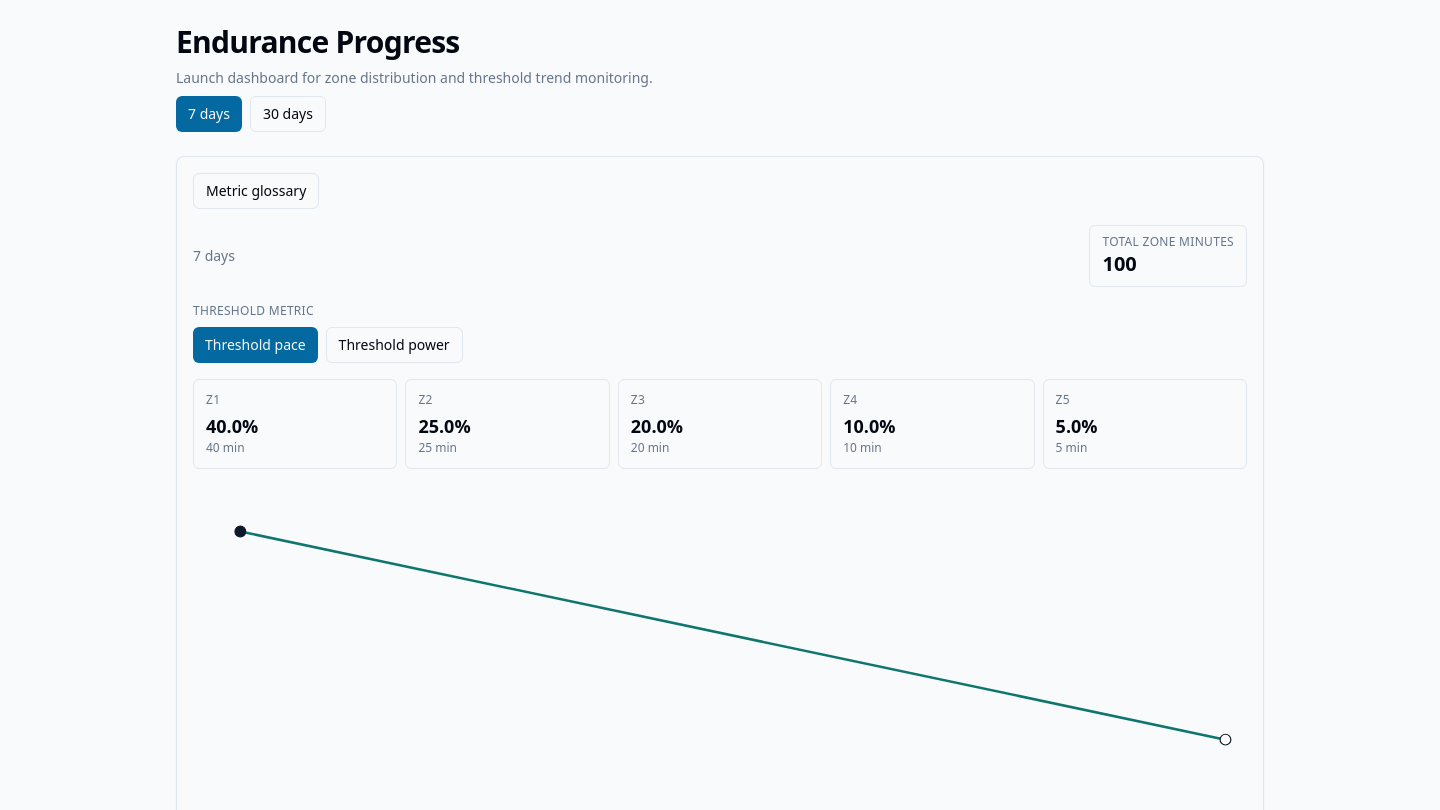
it: EnduranceProgressDashboard › provides contextual metric glossary access
This screenshot has width=1440, height=810.
Click the button "Metric glossary" at (256, 191), box [193,173,319,209]
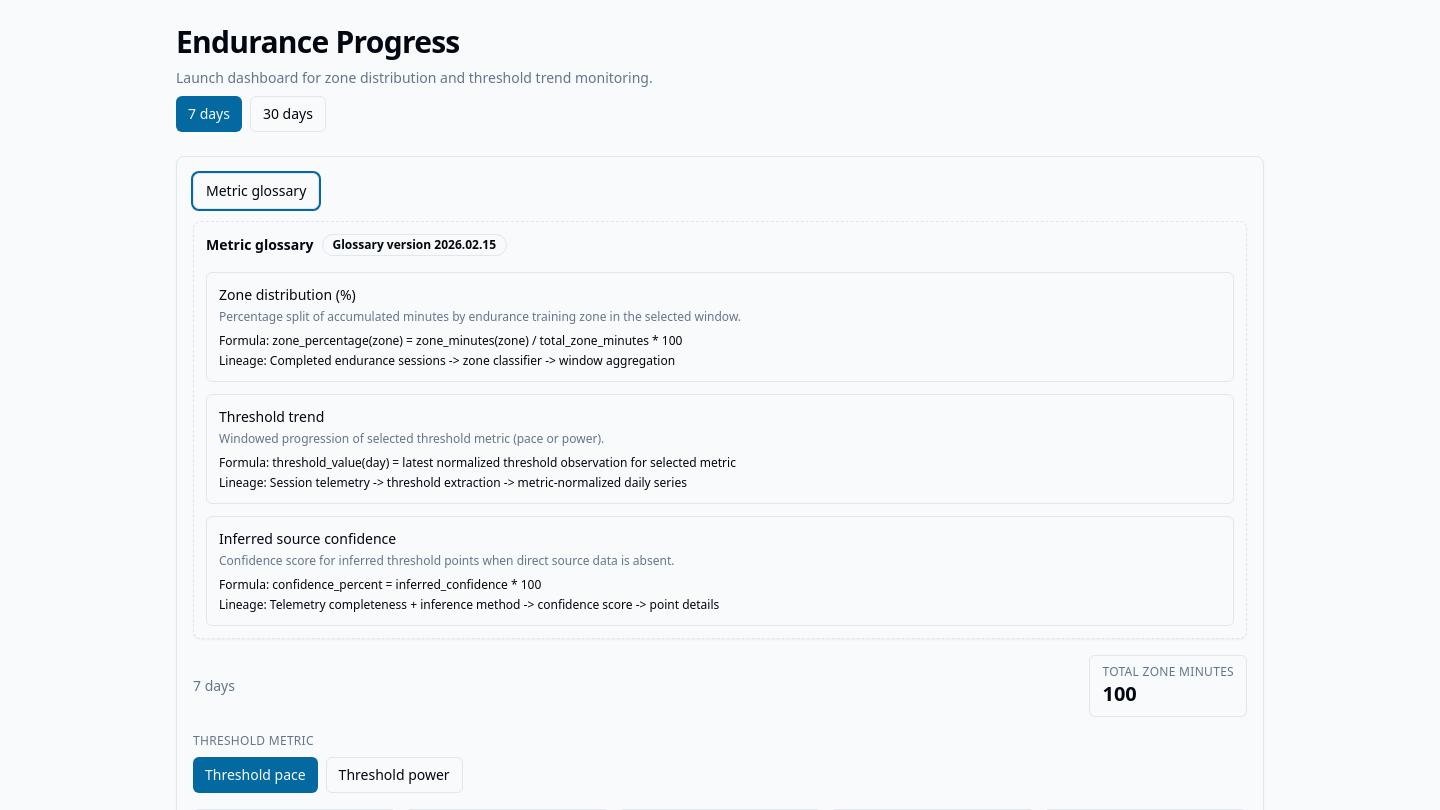
Expected: the text "Glossary version 2026.02.15" is shown, [322,234,507,256]
Expected: the text "Zone distribution (%)" is shown, [219,285,356,304]
Expected: the text "Threshold trend" is shown, [219,407,324,426]
